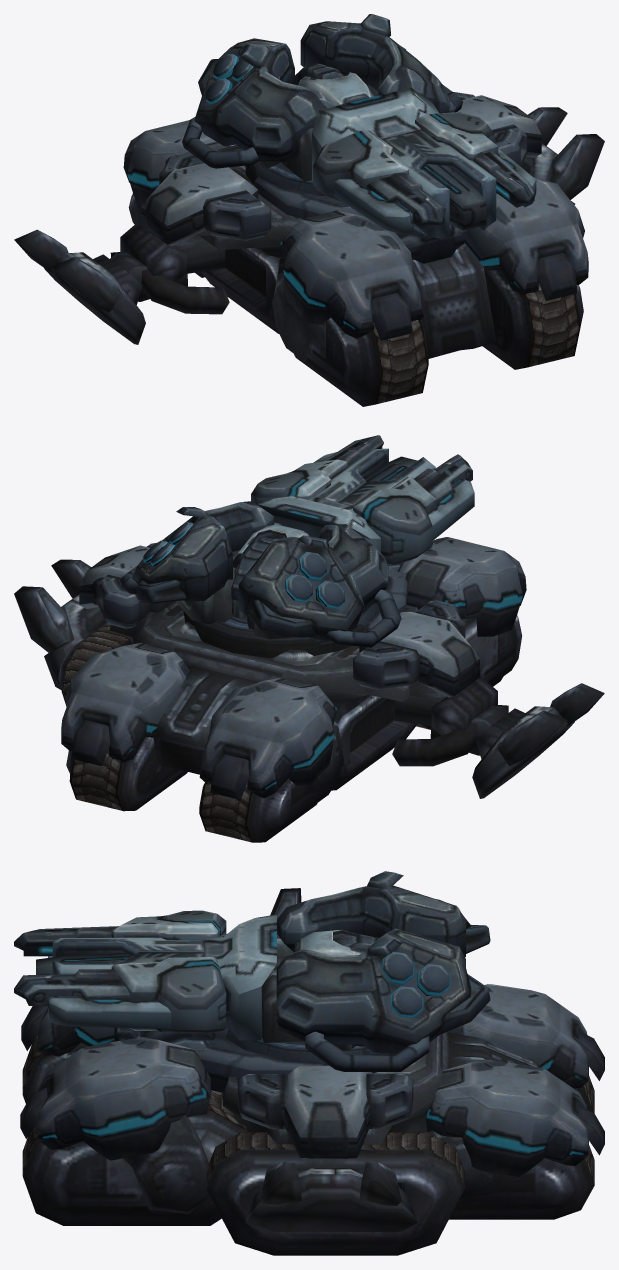
File: SiegeTank_Umojan_Sieged.glb
The picture shows the model from 3 angles, top to bottom: view 1: azimuth 30°, elevation 25°; view 2: azimuth 150°, elevation 25°; view 3: azimuth 270°, elevation 25°; orthographic projection. The views are drawn at different scales.
Visible parts, largest first — view 1: Mesh.002, Mesh, Mesh.001, Mesh.003; view 2: Mesh.002, Mesh, Mesh.001, Mesh.003; view 3: Mesh.002, Mesh, Mesh.001, Mesh.003.
Boxes of the visible parts, <box> form: Mesh.002: <box>14,14,604,406</box>; Mesh: <box>110,129,496,314</box>; Mesh.001: <box>524,282,580,367</box>; Mesh.003: <box>372,320,428,404</box>; Mesh.002: <box>14,435,604,842</box>; Mesh: <box>120,448,508,766</box>; Mesh.001: <box>61,623,131,810</box>; Mesh.003: <box>199,724,430,842</box>; Mesh.002: <box>14,871,604,1255</box>; Mesh: <box>36,937,396,1092</box>; Mesh.001: <box>22,1090,594,1188</box>; Mesh.003: <box>22,1035,594,1112</box>.
Bounding box in the file's own units: 3.42 × 1.46 × 2.93.
4 materials, 4 textured.
